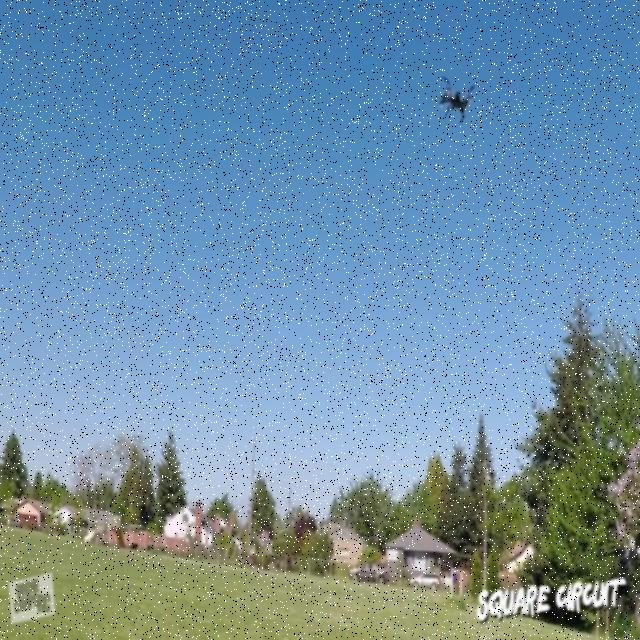UAV: (439, 75, 475, 124)
